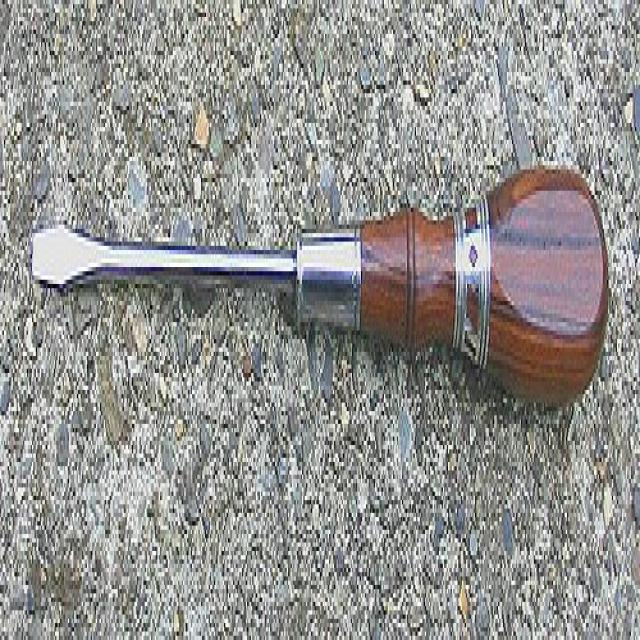screw driver: (32, 120, 606, 453)
